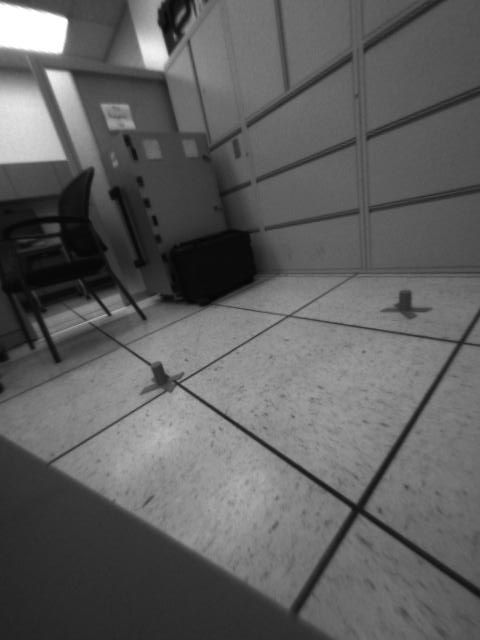X: (139, 359, 184, 396), (379, 289, 432, 320)
